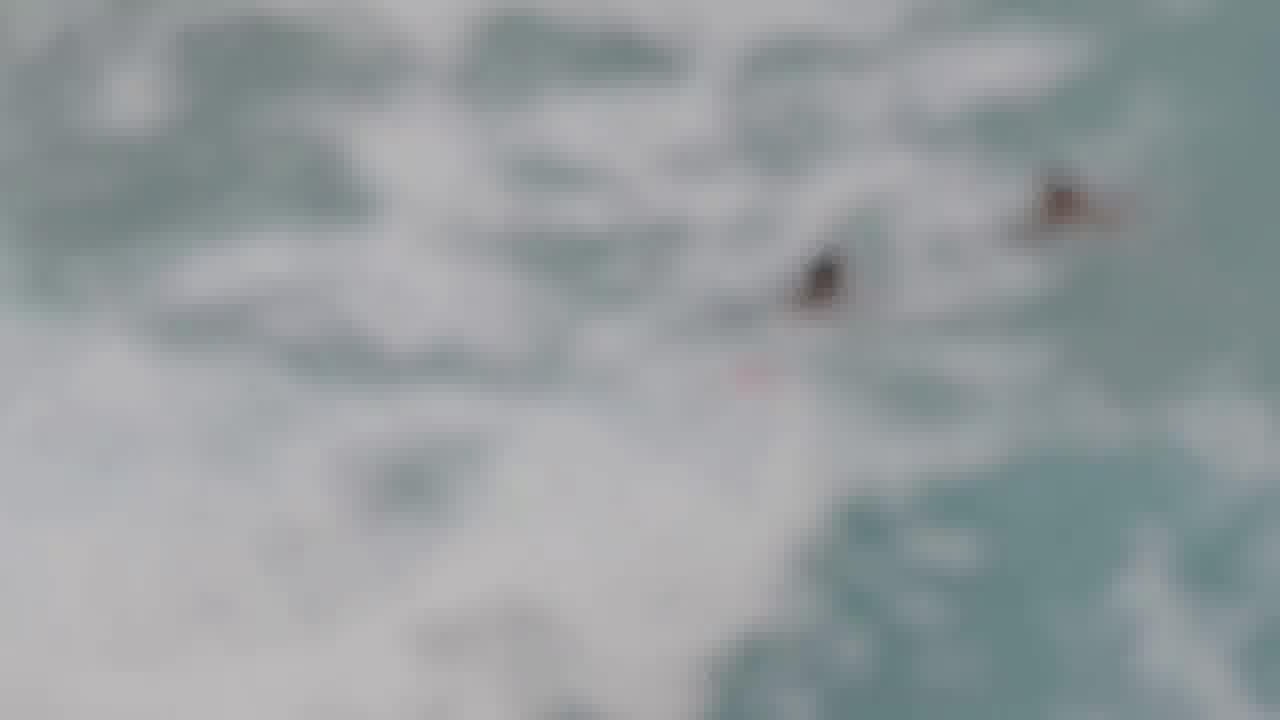swimmer: (778, 236, 871, 315), (1008, 184, 1105, 239)
